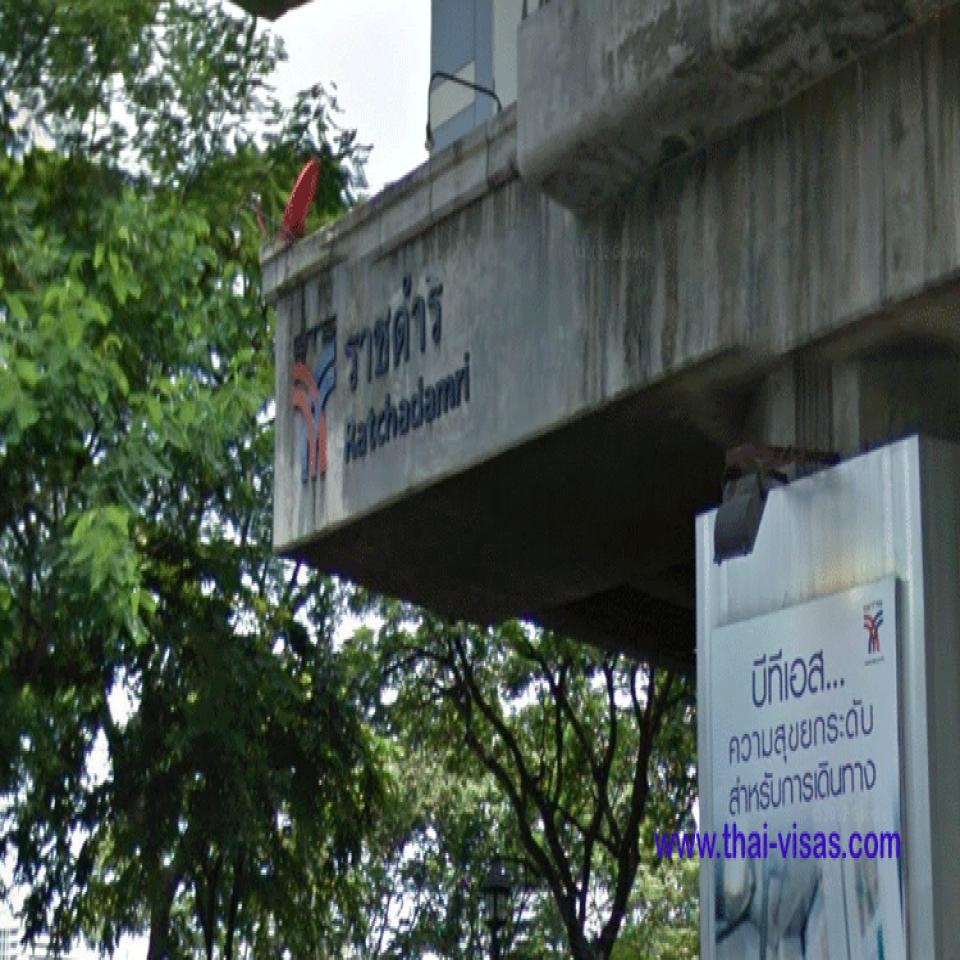Ratchadamri: (292, 266, 472, 486), (344, 266, 472, 467)
